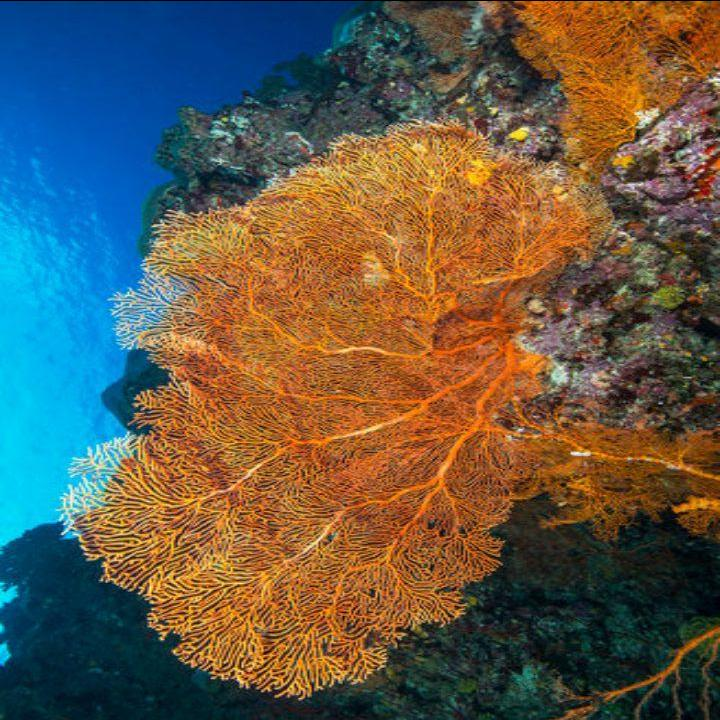Healthy Coral: (66, 113, 661, 700)
